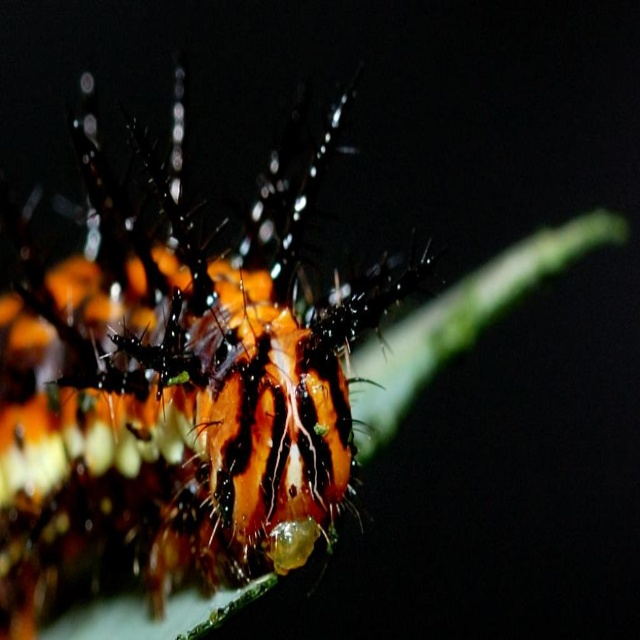Caterpillar: (3, 55, 438, 639)
